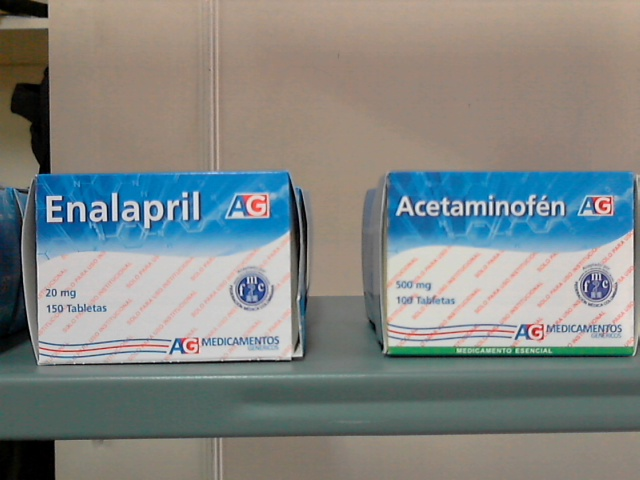AG: (36, 174, 294, 362), (390, 174, 633, 355)
